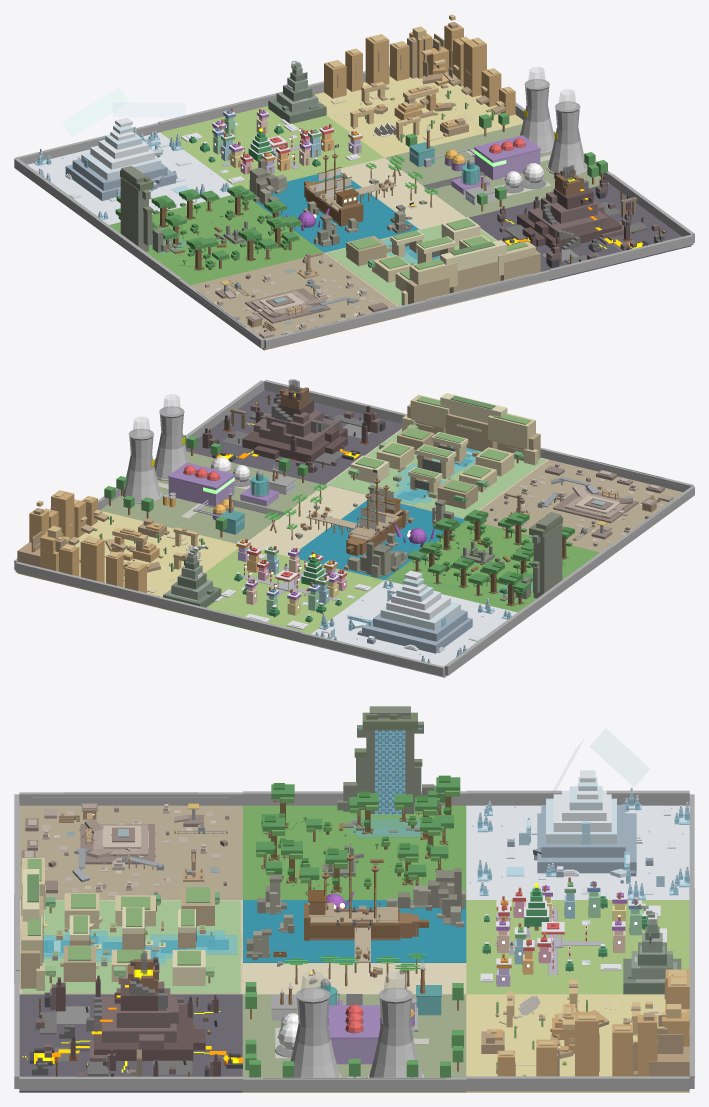
File: boxman-world.glb
3 views of the same model, one above another, from view 1: azimuth 30°, elevation 25°; view 2: azimuth 150°, elevation 25°; view 3: azimuth 270°, elevation 25° (orthographic). The views are drawn at different scales.
Bounding box in the file's own units: 165 × 31.16 × 165.
